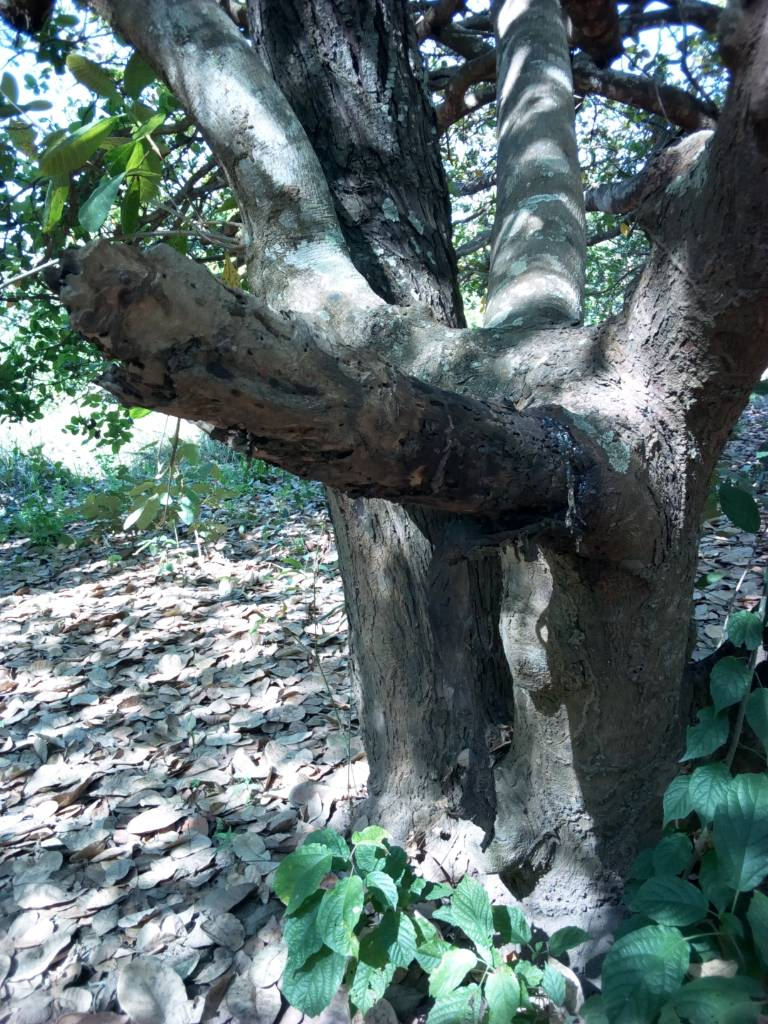Termites: (79, 246, 419, 488), (625, 277, 721, 561)
